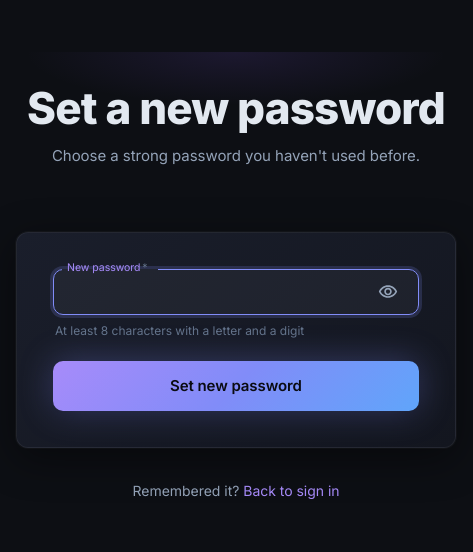
Test: ResetPasswordPage › shows ApiError message when reset fails
In the password field labelled "New password *": (209, 292) [53,270,365,315], type "AnyPass1!"
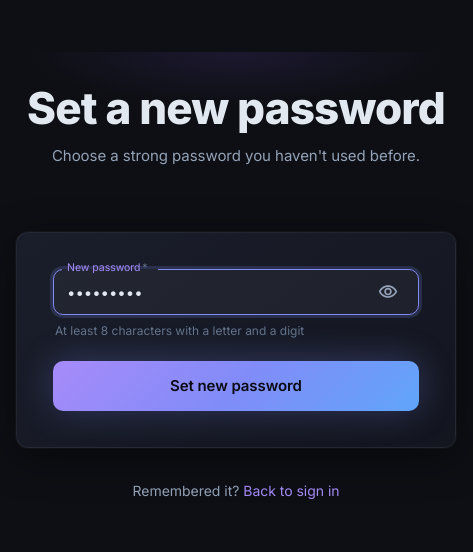
Click the button "Set new password": click(236, 386) [53,361,419,411]
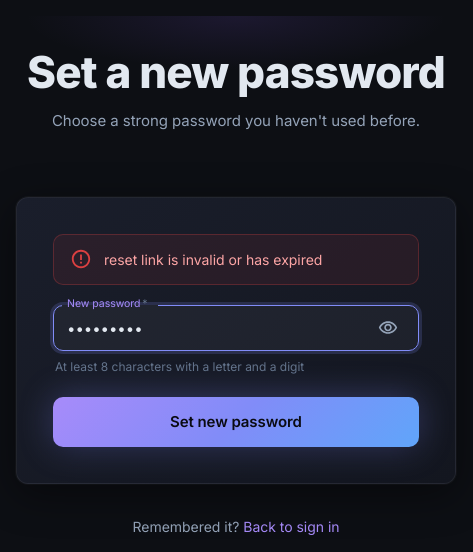
Result: the message "reset link is invalid or has expired" is shown at [53,234,419,285]
Result: the text "reset link is invalid or has expired" is shown at [104,251,322,268]
